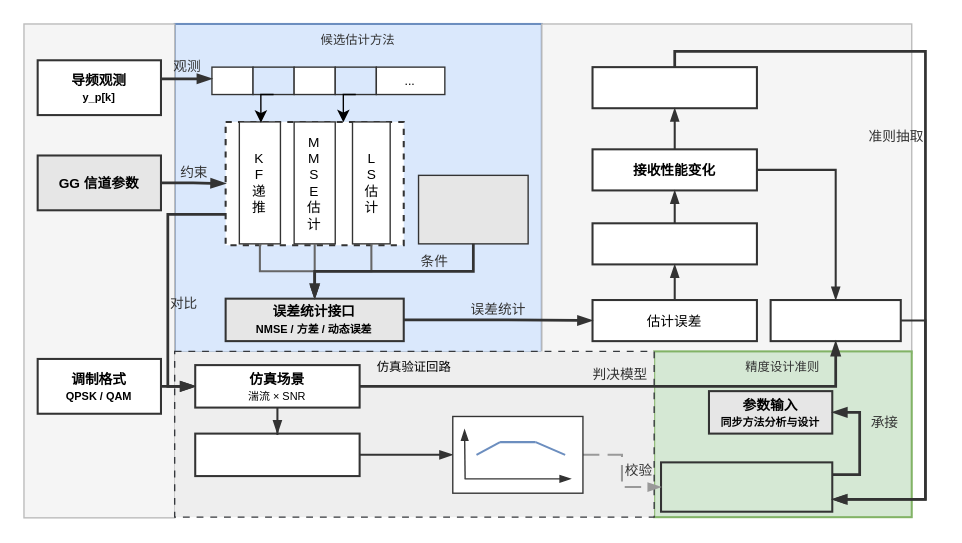
Some shapes in this 962 by 543 pixel diagram are drawn without their labels. The box of each missing label's shape, as (x1, y1, x2, y2) in pixels:
均衡偏差 / 判决输入扰动: (591, 222, 757, 265)
性能曲线 NMSE / BER: (194, 432, 360, 476)
接收性能影响分析: (540, 23, 912, 353)
方法可用性边界 E[1/h]发散判据 × 信道条件: (591, 65, 757, 109)
条件记录 先验 / 时序 / 复杂度: (417, 174, 528, 244)
调制格式灵敏度差异 QPSK / QAM 对比: (769, 298, 901, 342)
输入基准: (23, 23, 175, 518)
面向同步的精度设计准则 条件 × 方法 × 阈值 (IP1): (659, 461, 833, 512)
